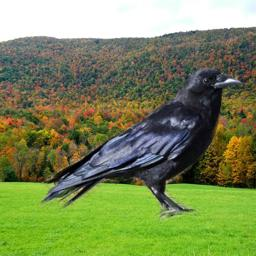Crow: (37, 63, 246, 224)
